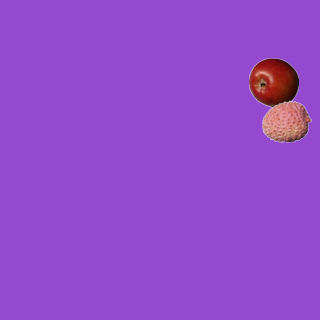Apple Braeburn: (248, 57, 298, 107)
Lychee: (261, 96, 311, 146)
